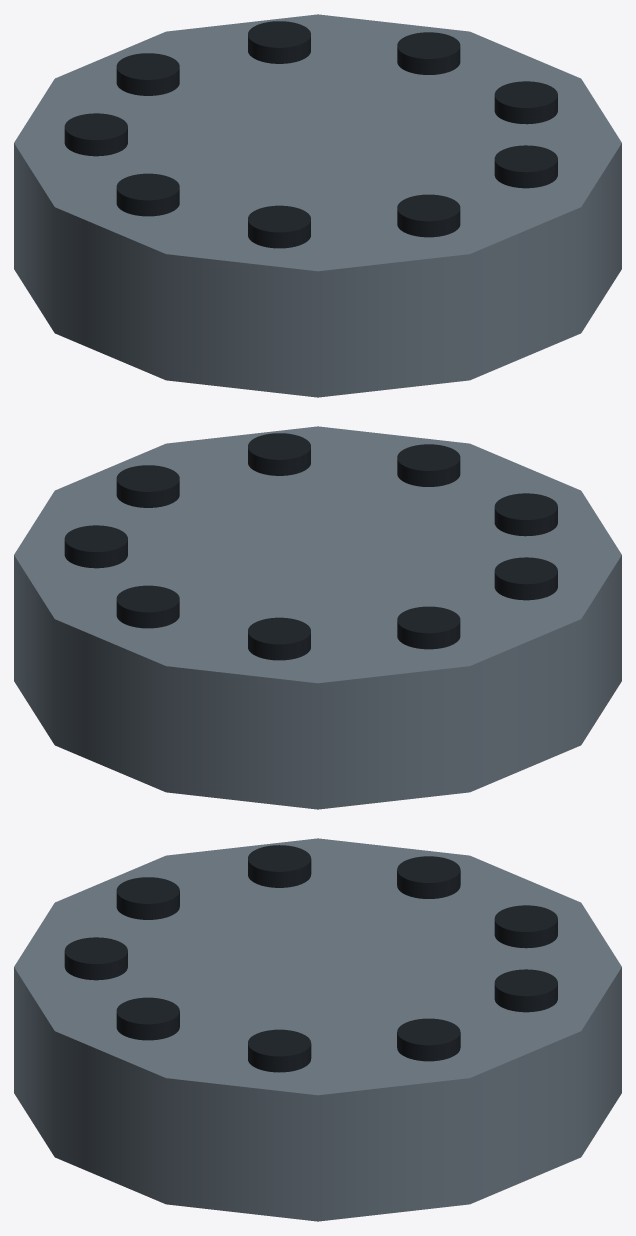
Rendered from perseverance_sampling.bit_carousel.glb.
The picture shows the model from 3 angles, top to bottom: view 1: azimuth 30°, elevation 25°; view 2: azimuth 150°, elevation 25°; view 3: azimuth 270°, elevation 25°; orthographic projection.
Visible parts, largest first — view 1: perseverance_sampling.bit_carousel.mesh_Machined_steel, perseverance_sampling.bit_carousel.mesh_Carbon_composite; view 2: perseverance_sampling.bit_carousel.mesh_Machined_steel, perseverance_sampling.bit_carousel.mesh_Carbon_composite; view 3: perseverance_sampling.bit_carousel.mesh_Machined_steel, perseverance_sampling.bit_carousel.mesh_Carbon_composite.
Boxes of the visible parts, box(x1,y1,x2,y2) form: perseverance_sampling.bit_carousel.mesh_Machined_steel: box(14, 14, 621, 397); perseverance_sampling.bit_carousel.mesh_Carbon_composite: box(64, 21, 557, 248); perseverance_sampling.bit_carousel.mesh_Machined_steel: box(14, 426, 621, 809); perseverance_sampling.bit_carousel.mesh_Carbon_composite: box(64, 433, 557, 660); perseverance_sampling.bit_carousel.mesh_Machined_steel: box(14, 838, 621, 1221); perseverance_sampling.bit_carousel.mesh_Carbon_composite: box(64, 845, 557, 1072).
Bounding box in the file's own units: 0.48 × 0.124 × 0.48.
